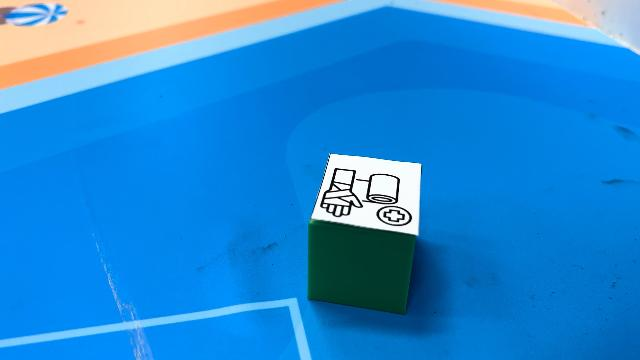bandage: (306, 153, 422, 315)
